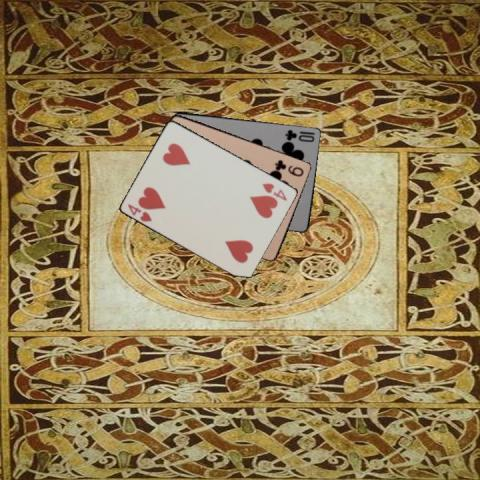10c: (282, 127, 316, 143)
4h: (259, 180, 289, 202), (125, 201, 153, 223)
9c: (272, 157, 305, 177)
